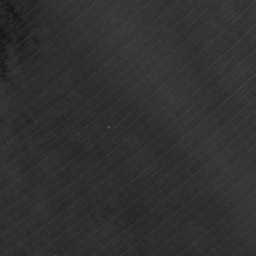Target: (106, 124, 112, 130)
